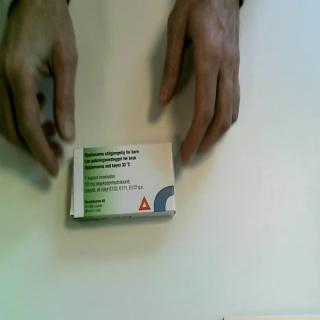oxynorm10mg: (69, 142, 177, 224)
